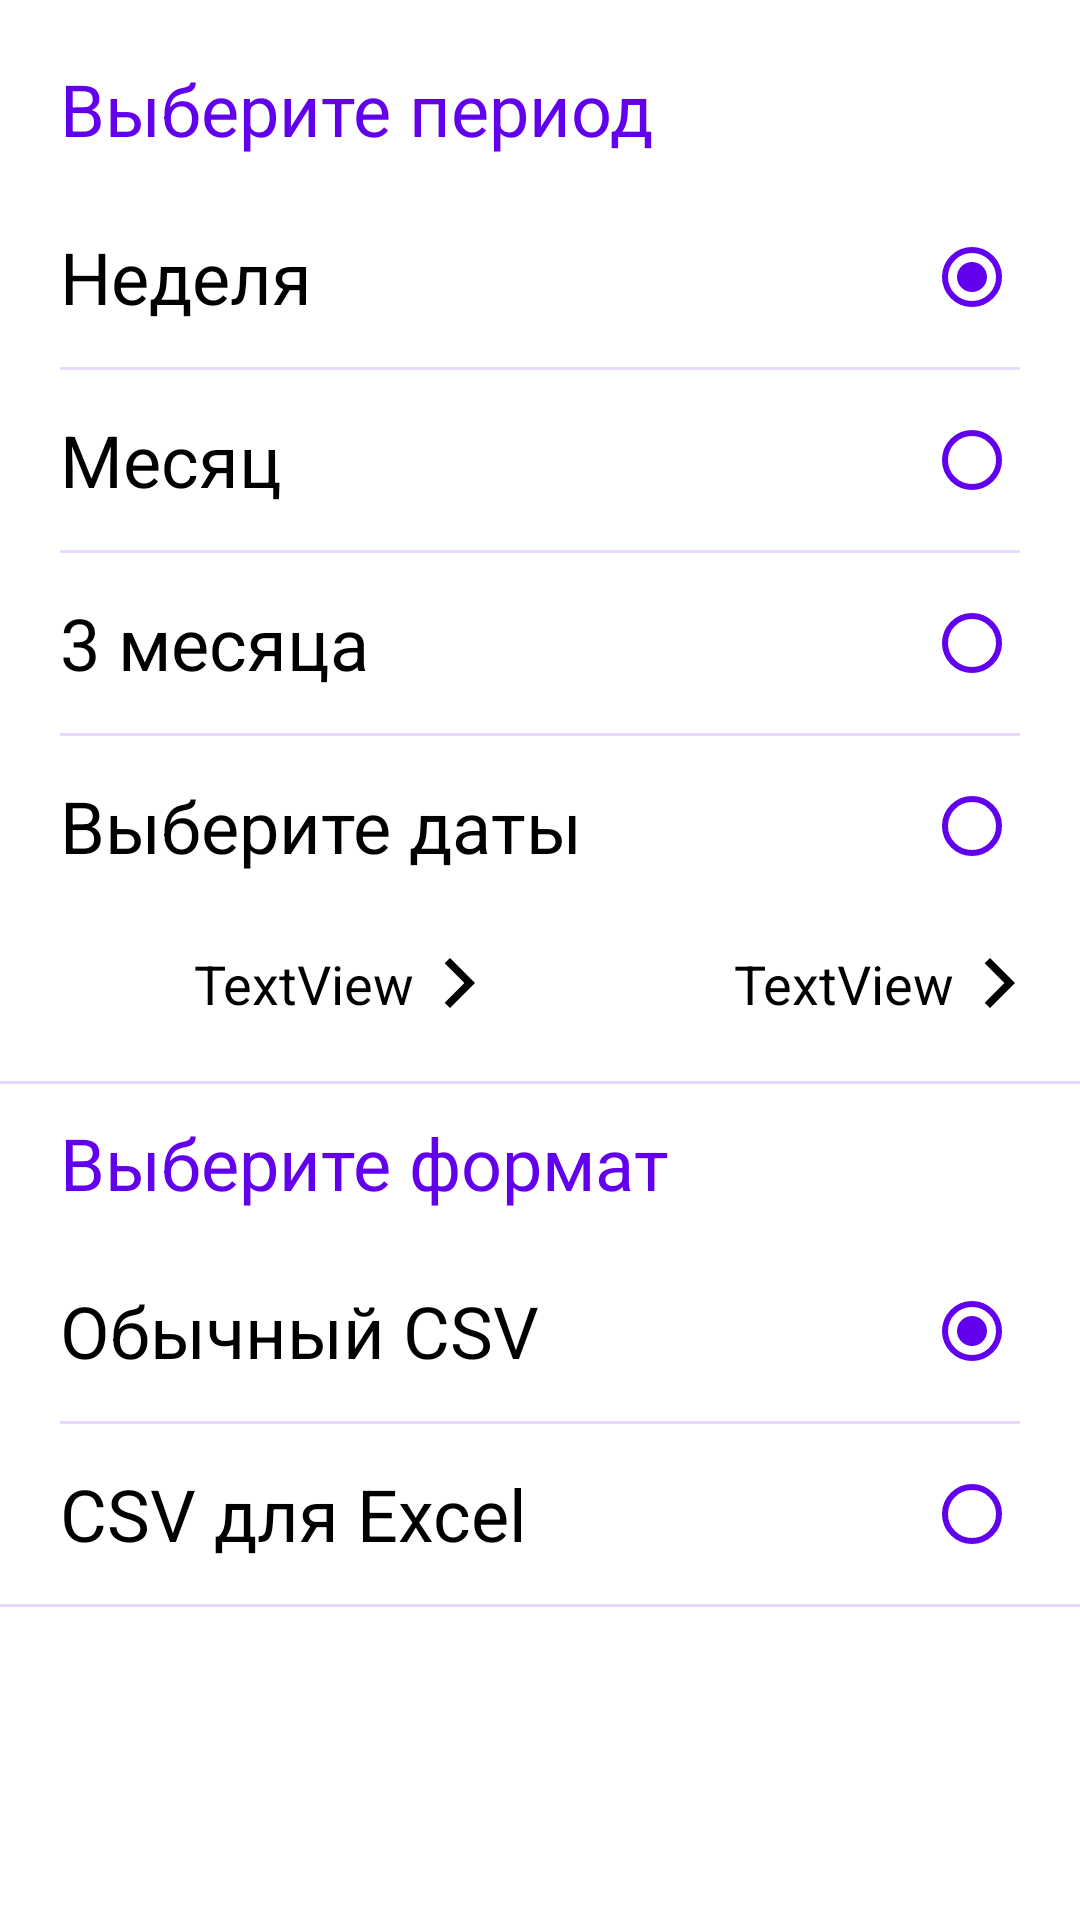

Named icons in this screenshot (1080 x 1920) and their centers, (x,y):
arrow forward right: (460,983), (1000,983)
